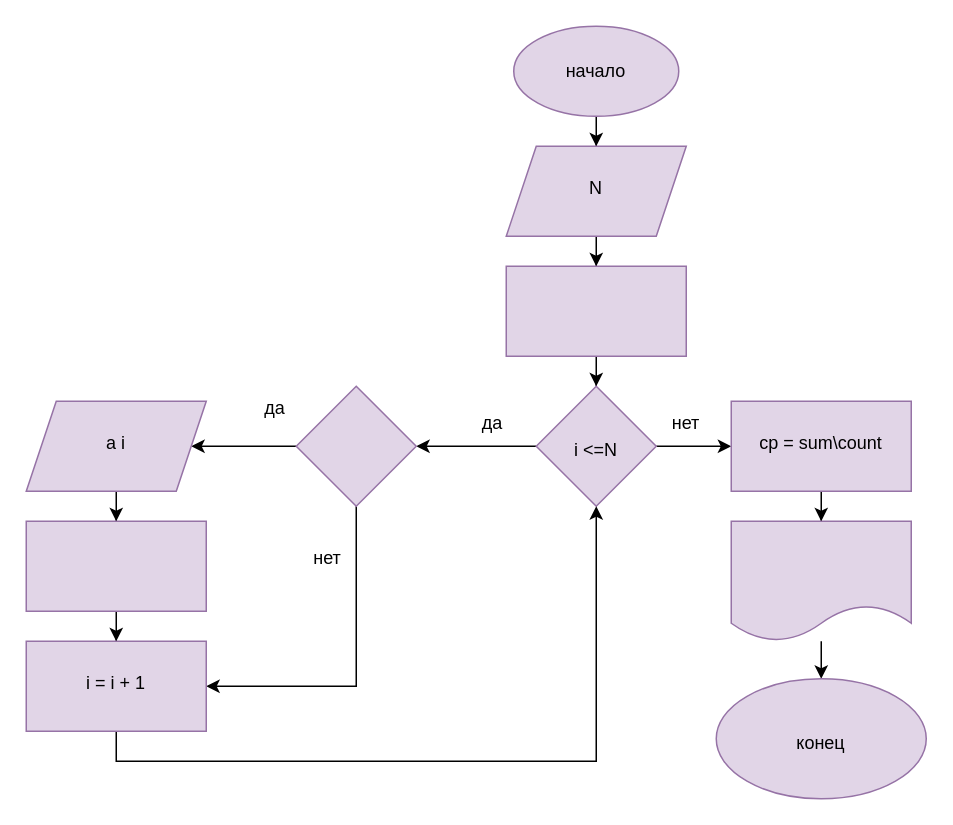
The diagram is 953 pixels wide and 825 high, and some of its shapes have lost their labels. The shapes that lost their labels are listed below. From the top down, each one's centre as x and y in pixels, then its label:
point (595, 310): sum = 0 count = 0 i = 1
point (355, 445): i\2 = 0
point (115, 565): sum = sum + ai count = count + 1
point (820, 580): ср
